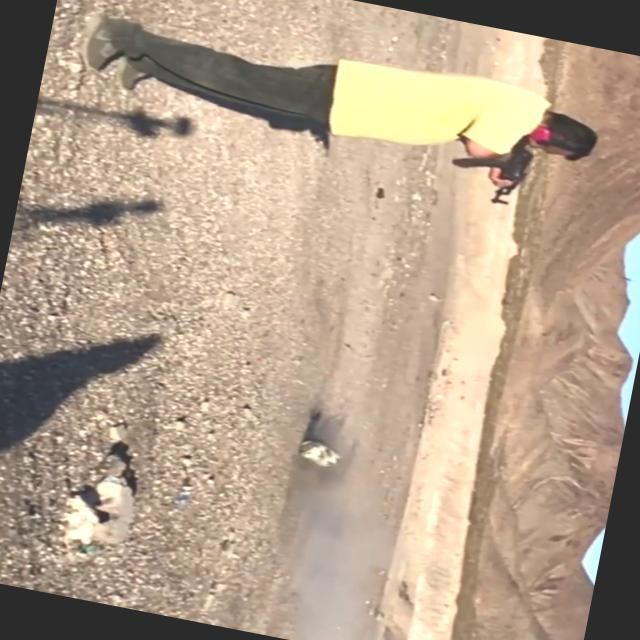long weapon: (428, 111, 546, 219)
